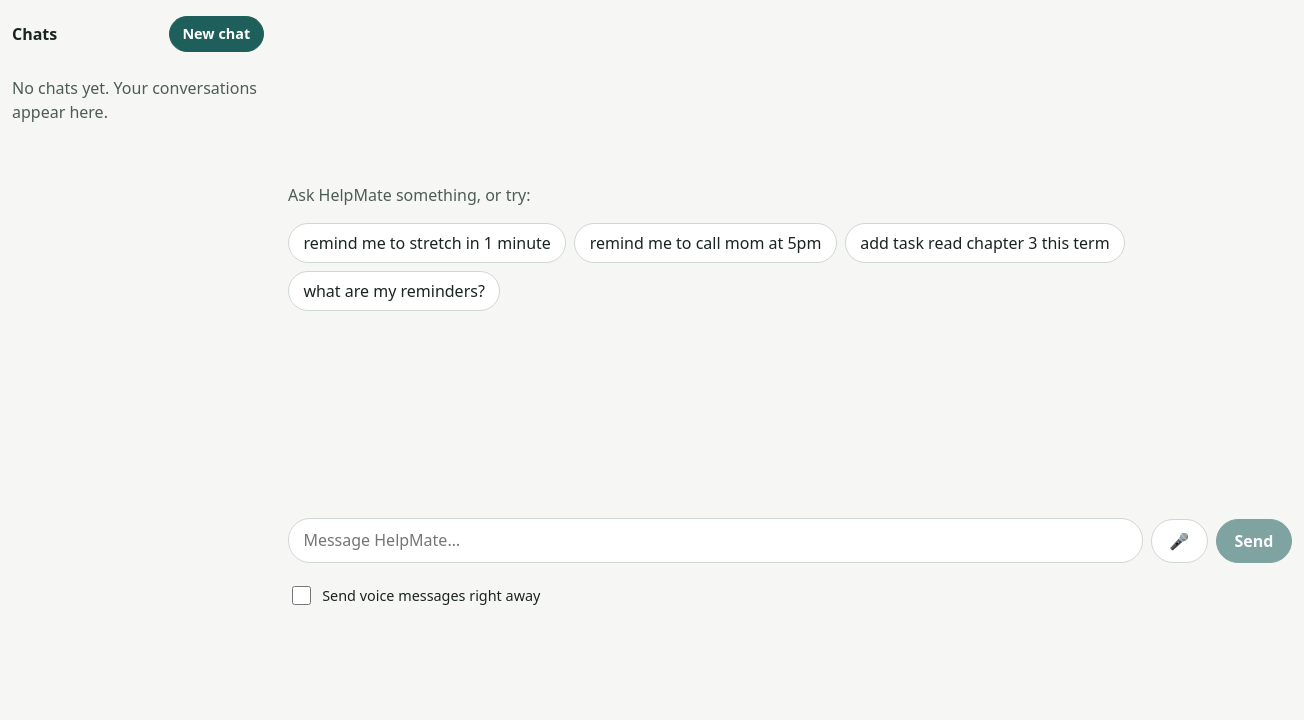
it: ChatPage › when scrollIntoView returns a Promise (current Chrome) › keeps rendering as turns change and on unmount
What coordinates should you click on to do the following:
click the button "what are my reminders?"
I would click on:
 (394, 291)
Its box is [288,271,500,311].
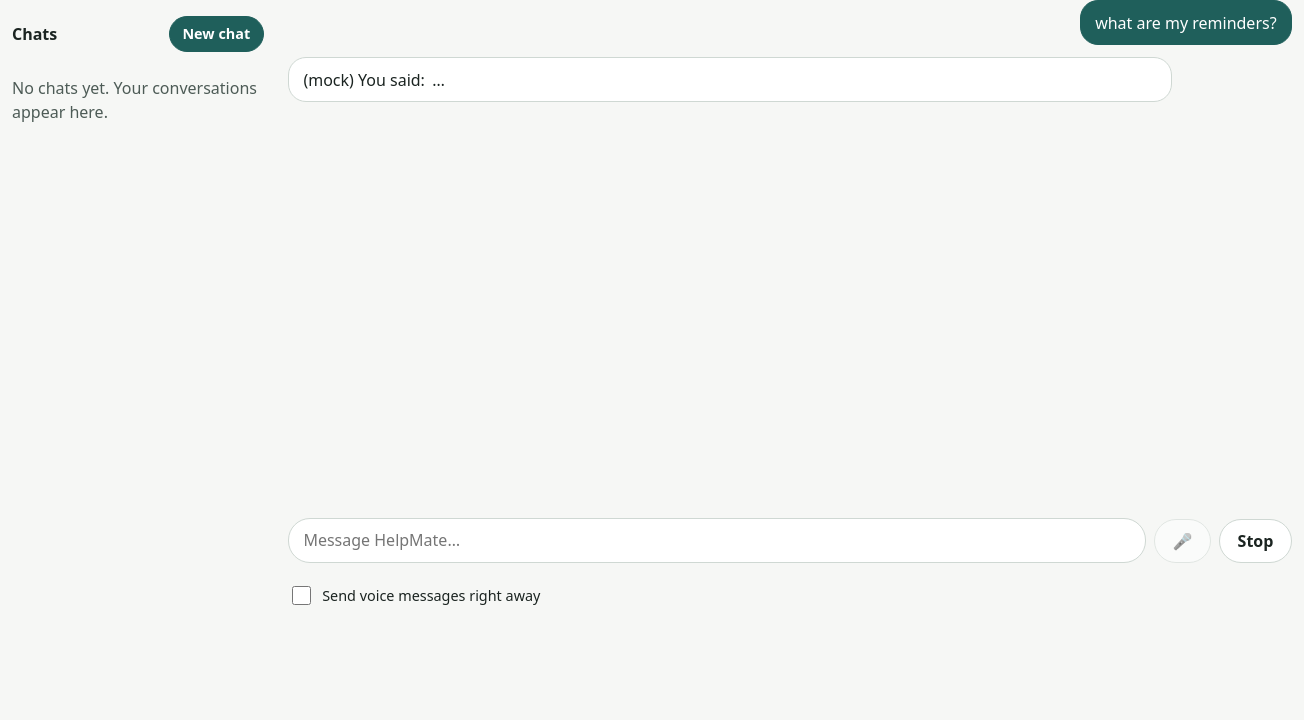
expect the text "(mock) You said:" is shown: met, box [288,57,1172,102]
